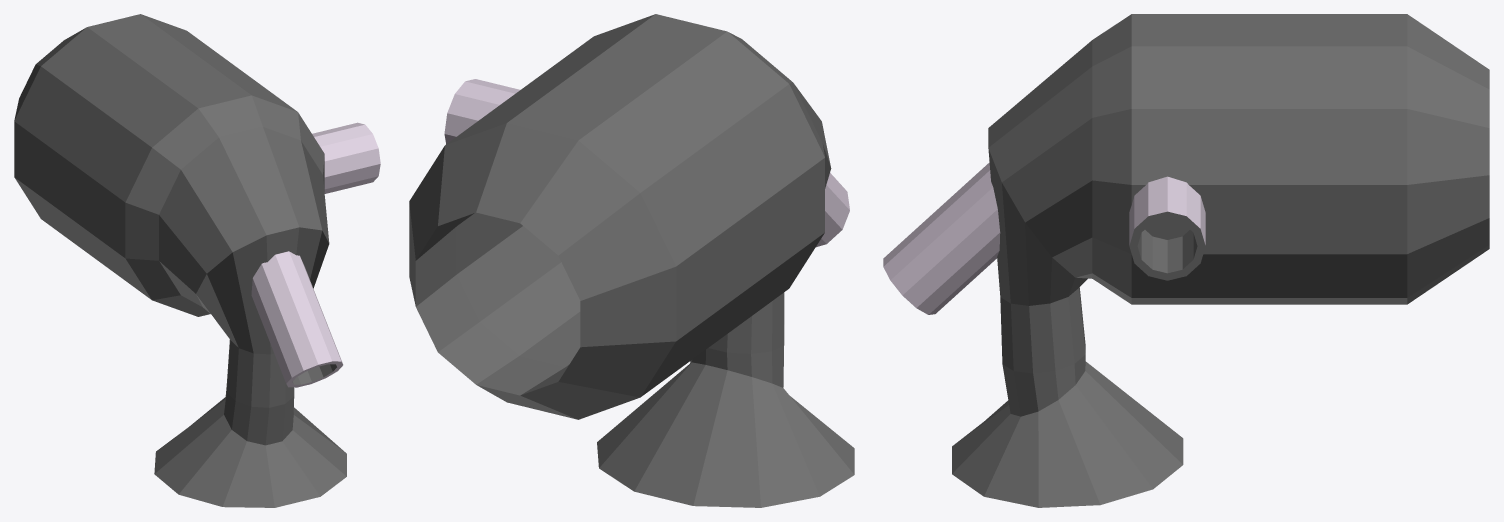
File: water_cannon.gltf
The picture shows the model from 3 angles, left to right: view 1: azimuth 30°, elevation 25°; view 2: azimuth 150°, elevation 25°; view 3: azimuth 270°, elevation 25°; orthographic projection. The views are drawn at different scales.
Visible parts, largest first — view 1: torus, tube (×2); view 2: torus, tube (×2); view 3: torus, tube (×2).
Boxes of the visible parts, x1,y1,x2,y2 form: torus: (14,14,346,507); tube (×2): (251,122,380,387); torus: (409,14,854,507); tube (×2): (444,79,849,247); torus: (952,14,1489,507); tube (×2): (883,162,1205,314).
Bounding box in the file's own units: 0.3083 × 0.4023 × 0.5138.
Materials: 2 (2 with a texture image).
